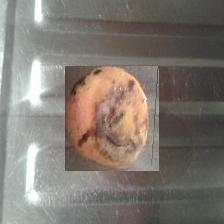Mango Semirotten: (66, 66, 160, 171)
